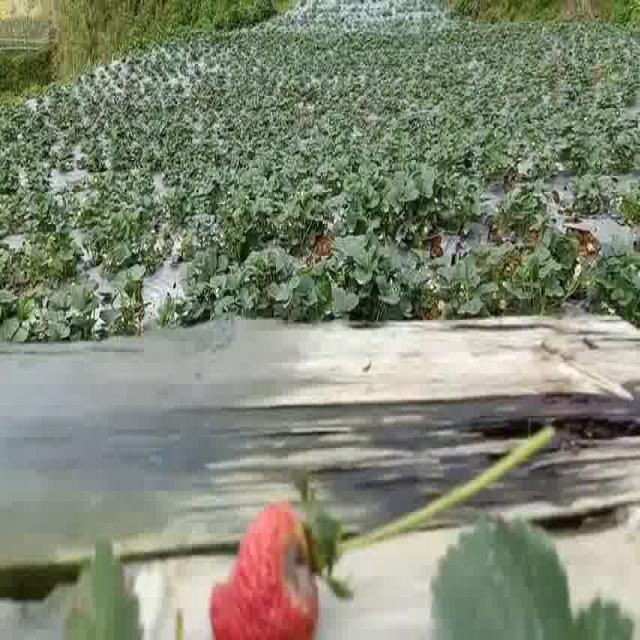Mancha negra Antracnosis: (207, 500, 330, 640)
